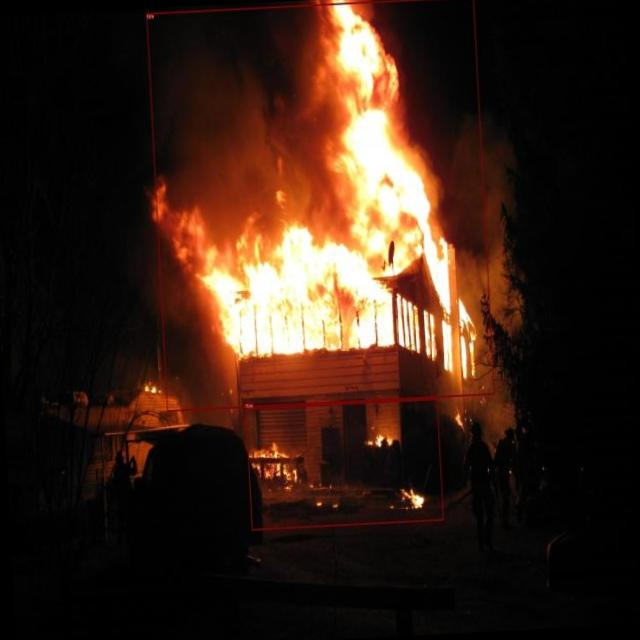fire: (147, 0, 495, 412), (246, 398, 444, 531)
